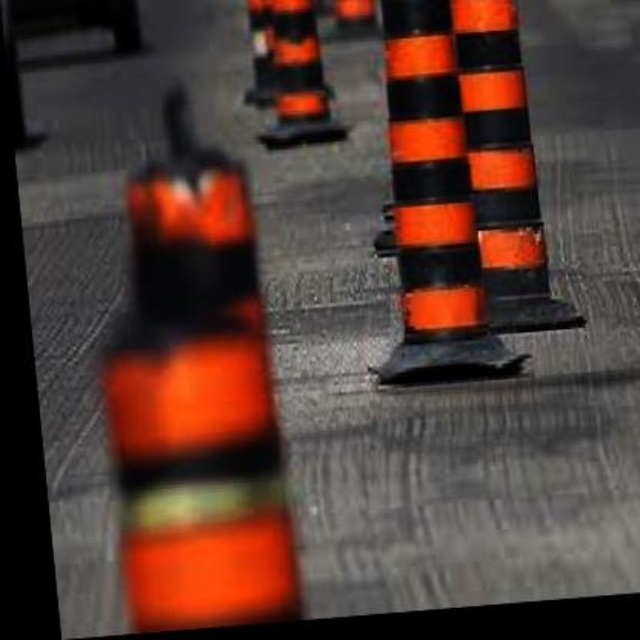obstacle: (368, 0, 488, 360), (452, 0, 553, 317)
